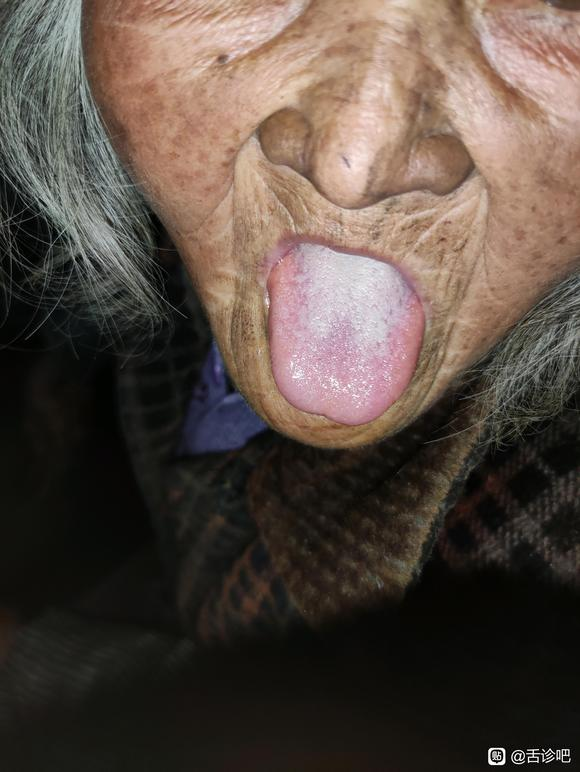baitaishe: (266, 243, 425, 426)
